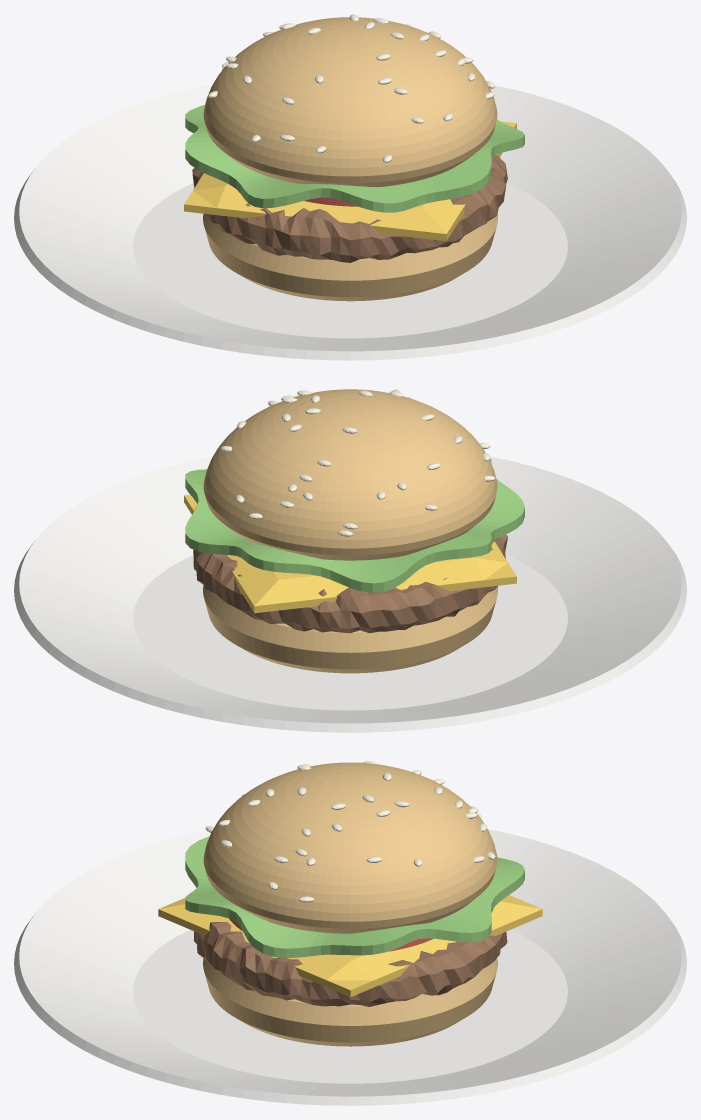
The model's file is burger.glb.
3 views of the same model, one above another, from view 1: azimuth 30°, elevation 25°; view 2: azimuth 150°, elevation 25°; view 3: azimuth 270°, elevation 25° (orthographic).
Parts seen in each view (by area): view 1: plate, bun_top, bun_bottom, lettuce, patty, cheese, sesame; view 2: plate, bun_top, bun_bottom, lettuce, patty, cheese, sesame; view 3: plate, bun_top, bun_bottom, patty, lettuce, cheese, sesame.
Boxes of the visible parts, left/top/right/bottom form: plate: left=14, top=84, right=686, bottom=360; bun_top: left=203, top=17, right=497, bottom=187; bun_bottom: left=203, top=213, right=497, bottom=301; lettuce: left=185, top=88, right=524, bottom=212; patty: left=192, top=154, right=507, bottom=262; cheese: left=184, top=121, right=516, bottom=240; sesame: left=208, top=14, right=494, bottom=162; plate: left=14, top=456, right=686, bottom=732; bun_top: left=203, top=389, right=497, bottom=560; bun_bottom: left=203, top=585, right=497, bottom=673; lettuce: left=185, top=458, right=524, bottom=592; patty: left=193, top=534, right=507, bottom=633; cheese: left=184, top=494, right=516, bottom=613; sesame: left=221, top=389, right=495, bottom=536; plate: left=14, top=829, right=686, bottom=1105; bun_top: left=203, top=762, right=497, bottom=933; bun_bottom: left=203, top=958, right=497, bottom=1046; patty: left=193, top=922, right=507, bottom=1006; lettuce: left=185, top=836, right=524, bottom=957; cheese: left=158, top=895, right=542, bottom=997; sesame: left=205, top=761, right=495, bottom=902.
Bounding box in the file's own units: 0.26 × 0.0933 × 0.26.
